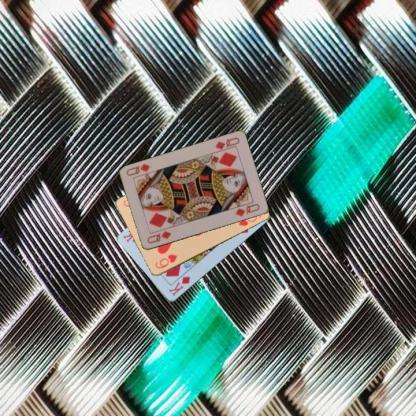6h: (152, 252, 178, 270)
Kd: (166, 274, 192, 297)
Qd: (212, 135, 240, 154), (145, 228, 172, 245)
